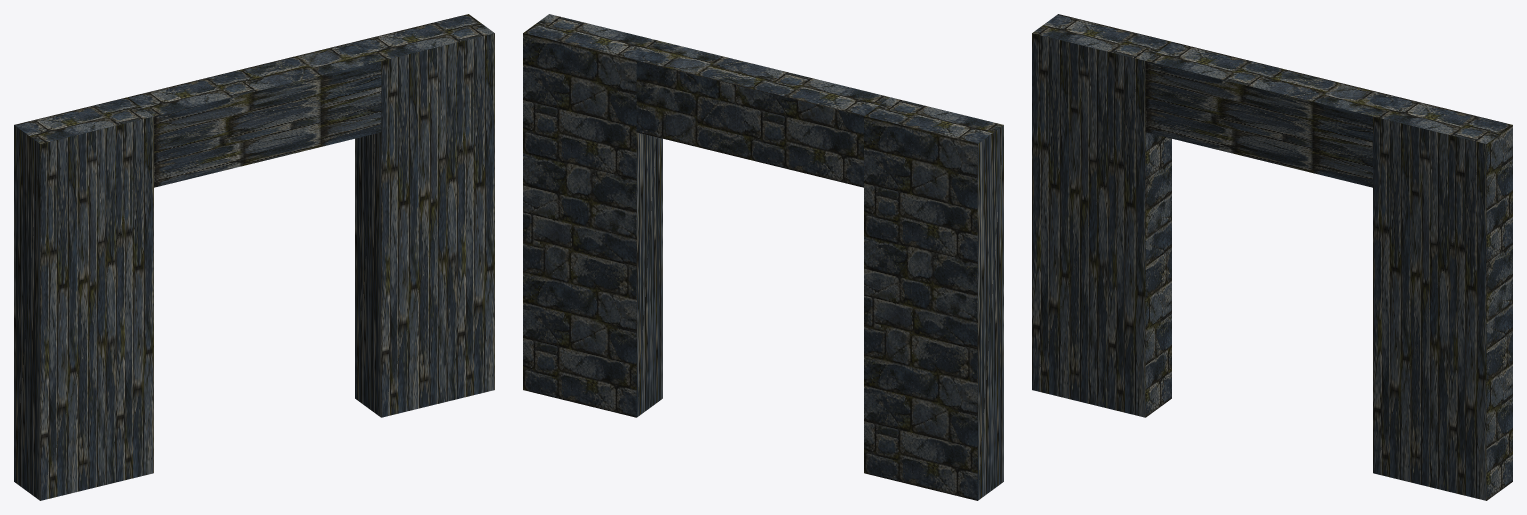
The model's file is M_Portal_4m.obj.
3 views of the same model, side by side, from view 1: azimuth 30°, elevation 25°; view 2: azimuth 150°, elevation 25°; view 3: azimuth 330°, elevation 25° (orthographic).
Visible parts, largest first — view 1: M_Portal_4m; view 2: M_Portal_4m; view 3: M_Portal_4m.
Boxes of the visible parts, x1,y1,x2,y2 form: M_Portal_4m: (14,14,494,500); M_Portal_4m: (523,14,1003,500); M_Portal_4m: (1032,14,1512,500).
Size of the model in its own units: 4 by 3 by 0.4.
Materials: 1 (1 with a texture image).
